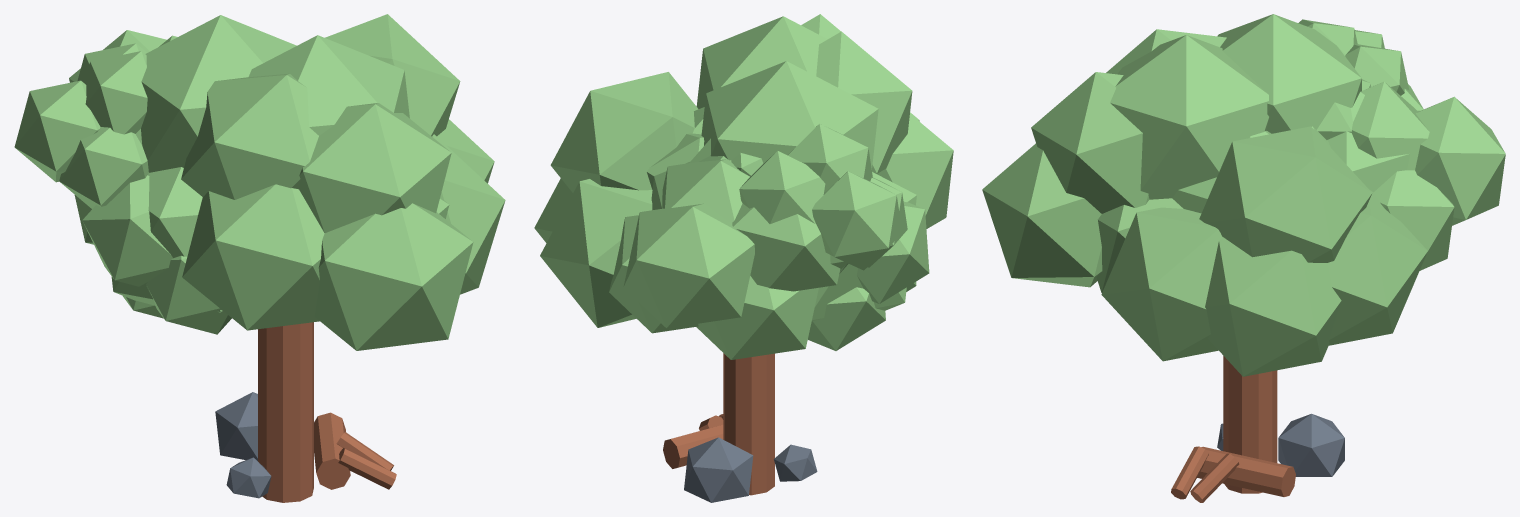
The model's file is baumlowpoly.fbx.
3 views of the same model, side by side, from view 1: azimuth 30°, elevation 25°; view 2: azimuth 150°, elevation 25°; view 3: azimuth 270°, elevation 25° (orthographic). The views are drawn at different scales.
Visible parts, largest first — view 1: Icosphere, Icosphere.001, Cylinder.001, Icosphere.005; view 2: Icosphere, Icosphere.001, Cylinder.001, Icosphere.005; view 3: Icosphere, Cylinder.001, Icosphere.001, Icosphere.005.
Part boxes in pixels (<box>): Icosphere: <box>69,14,505,350</box>; Icosphere.001: <box>14,43,231,334</box>; Cylinder.001: <box>258,322,396,502</box>; Icosphere.005: <box>215,392,271,498</box>; Icosphere: <box>534,14,953,359</box>; Icosphere.001: <box>647,124,929,350</box>; Cylinder.001: <box>663,353,774,495</box>; Icosphere.005: <box>684,437,817,502</box>; Icosphere: <box>982,14,1505,376</box>; Cylinder.001: <box>1171,356,1295,502</box>; Icosphere.001: <box>1298,19,1409,146</box>; Icosphere.005: <box>1217,413,1344,476</box>.
Size of the model in its own units: 382 by 431 by 457.
